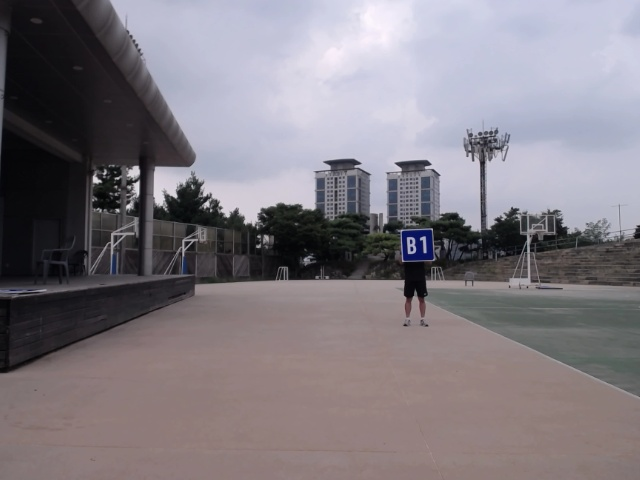delivery_b1: (400, 229, 435, 262)
